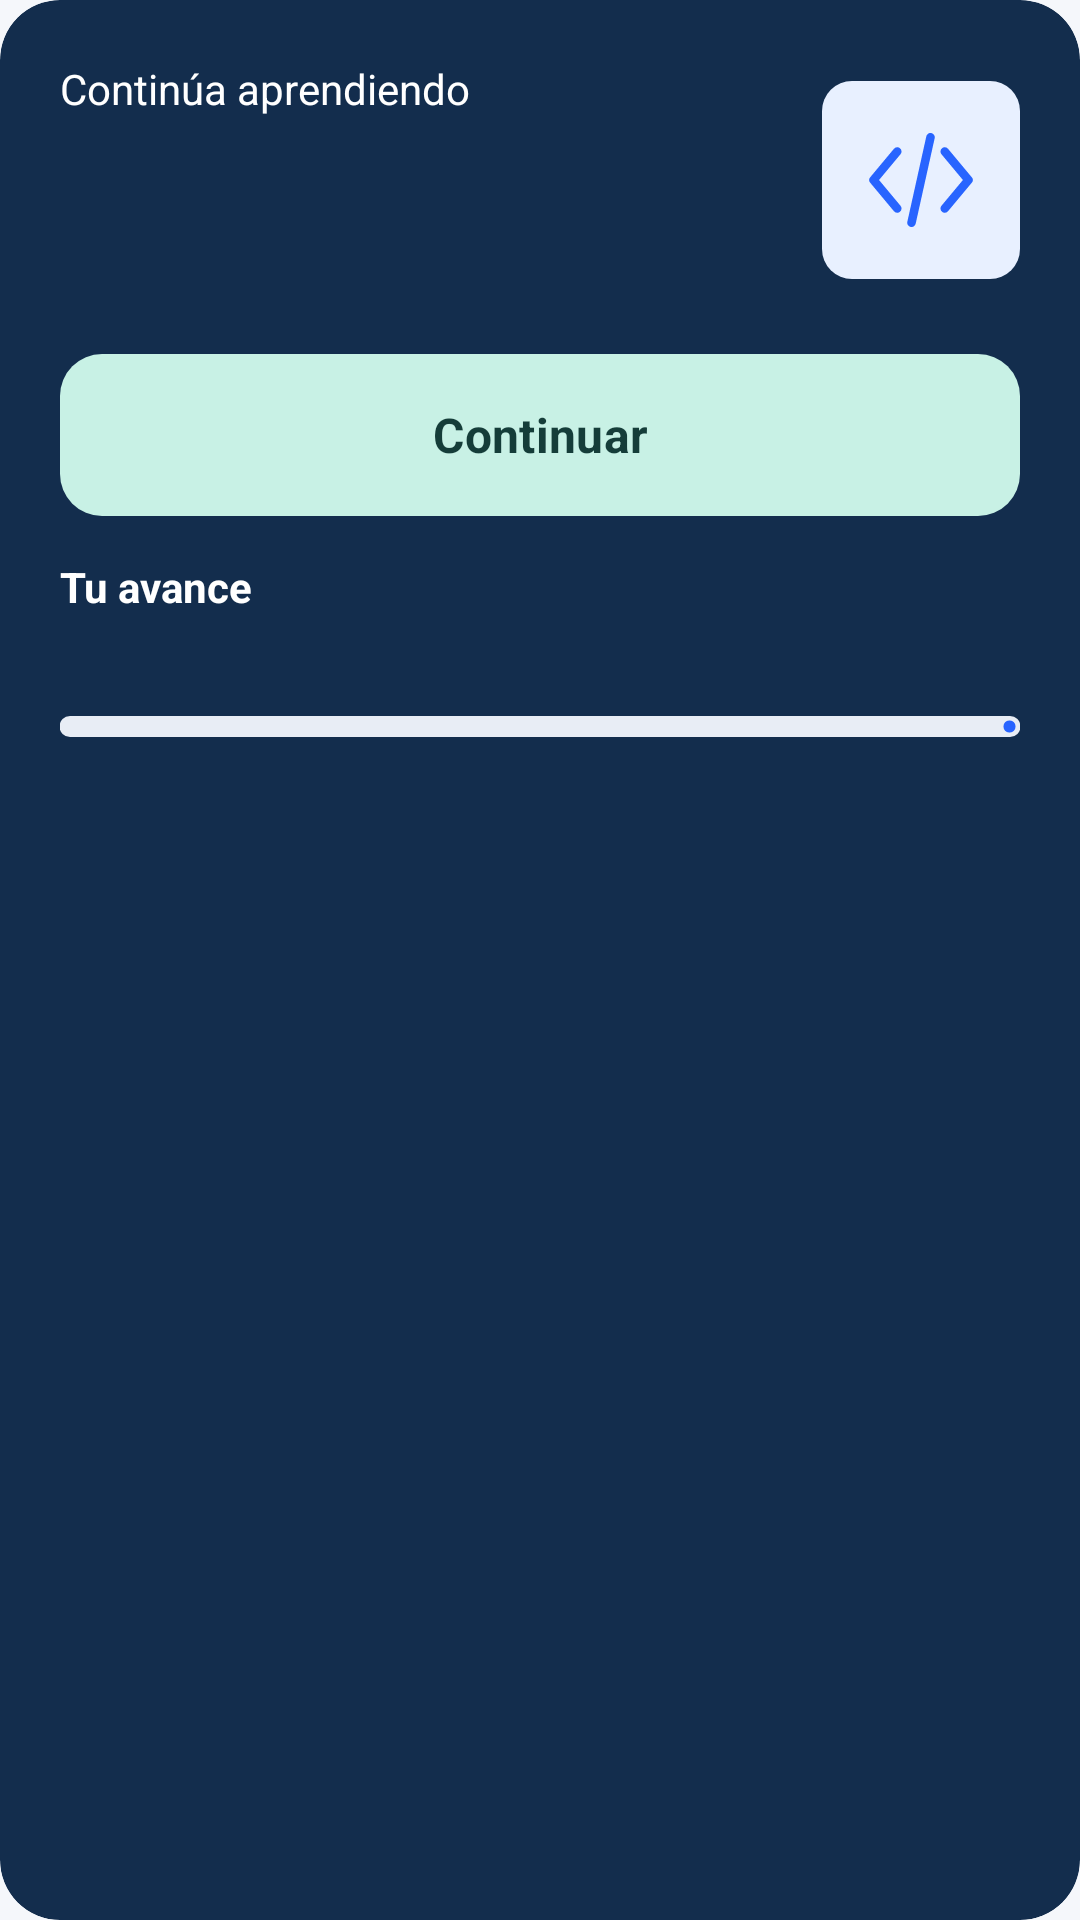

Icon bounding boxes for this 1080*1920 phone screenshot, format (x1, y1, x2, y2):
codigo: (822, 81, 1020, 279)
